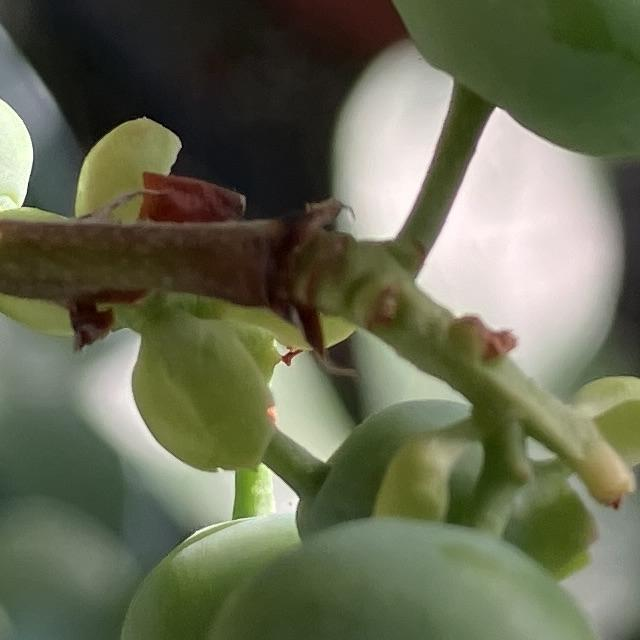Blueberries: (162, 509, 632, 640), (368, 0, 640, 162)
